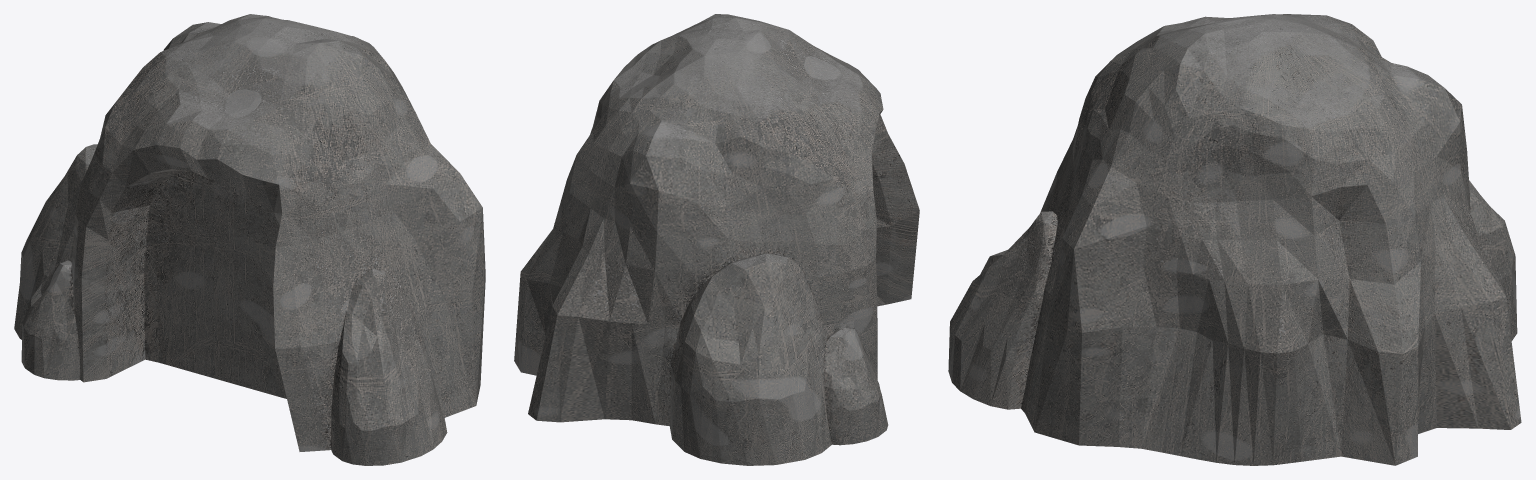
The model's file is Dung_Cave.glb.
3 views of the same model, side by side, from view 1: azimuth 30°, elevation 25°; view 2: azimuth 150°, elevation 25°; view 3: azimuth 270°, elevation 25° (orthographic). The views are drawn at different scales.
Visible parts, largest first — view 1: Cave; view 2: Cave; view 3: Cave.
Boxes of the visible parts, <box> form: Cave: <box>14,14,485,465</box>; Cave: <box>514,14,919,465</box>; Cave: <box>948,14,1521,465</box>.
Size of what is drawn, in the model's own units: 6.57 by 5.5 by 8.02.
1 material, 1 textured.
